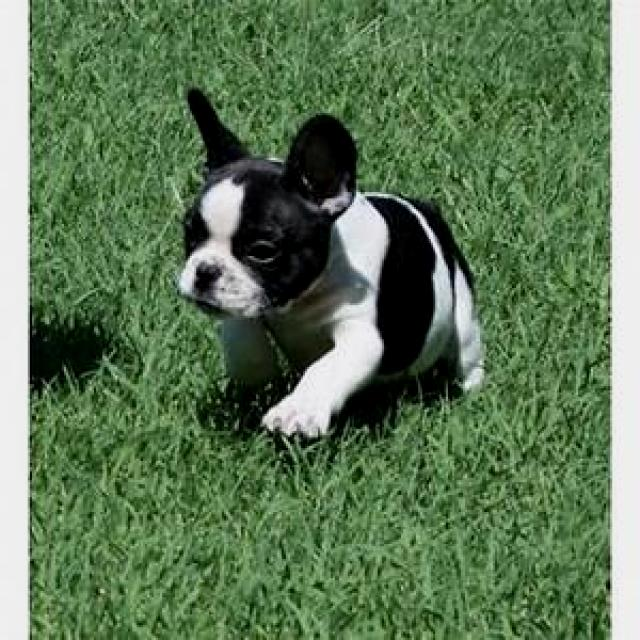KOPEK: (156, 84, 488, 444)
